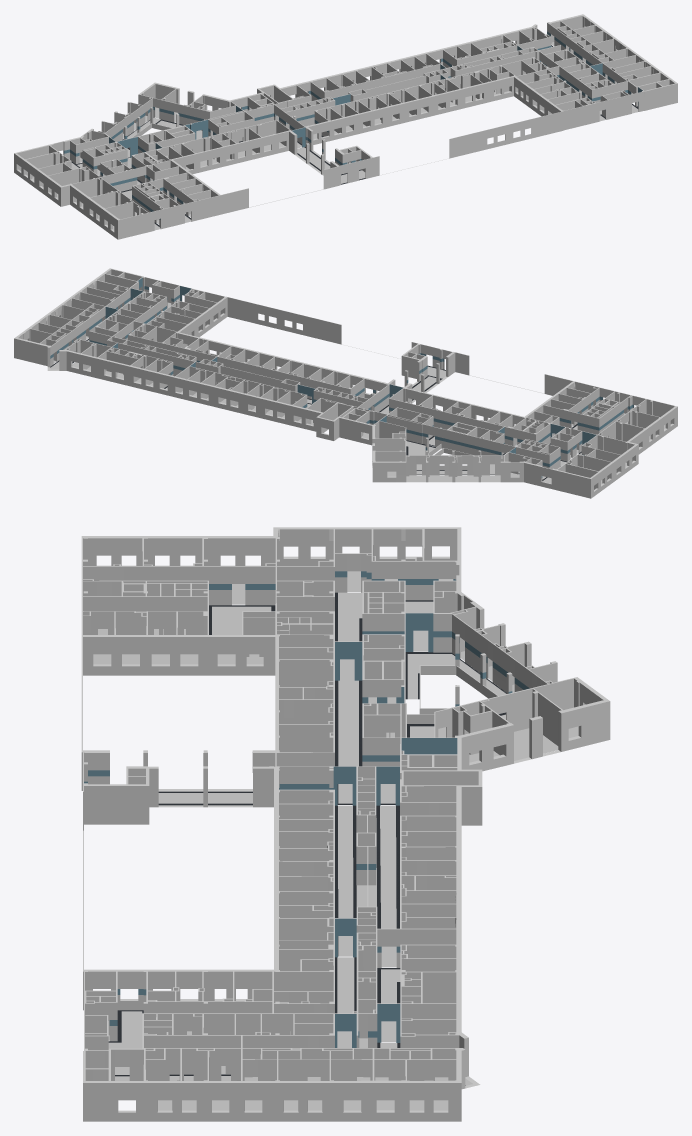
The model's file is Hall.fbx.
3 views of the same model, one above another, from view 1: azimuth 30°, elevation 25°; view 2: azimuth 150°, elevation 25°; view 3: azimuth 270°, elevation 25° (orthographic). The views are drawn at different scales.
Parts seen in each view (by area): view 1: Plane; view 2: Plane; view 3: Plane.
Boxes of the visible parts, left/top/right/bottom form: Plane: left=14, top=14, right=677, bottom=239; Plane: left=14, top=268, right=677, bottom=498; Plane: left=81, top=527, right=610, bottom=1121.
Bounding box in the file's own units: 12929 × 420 × 5195.
